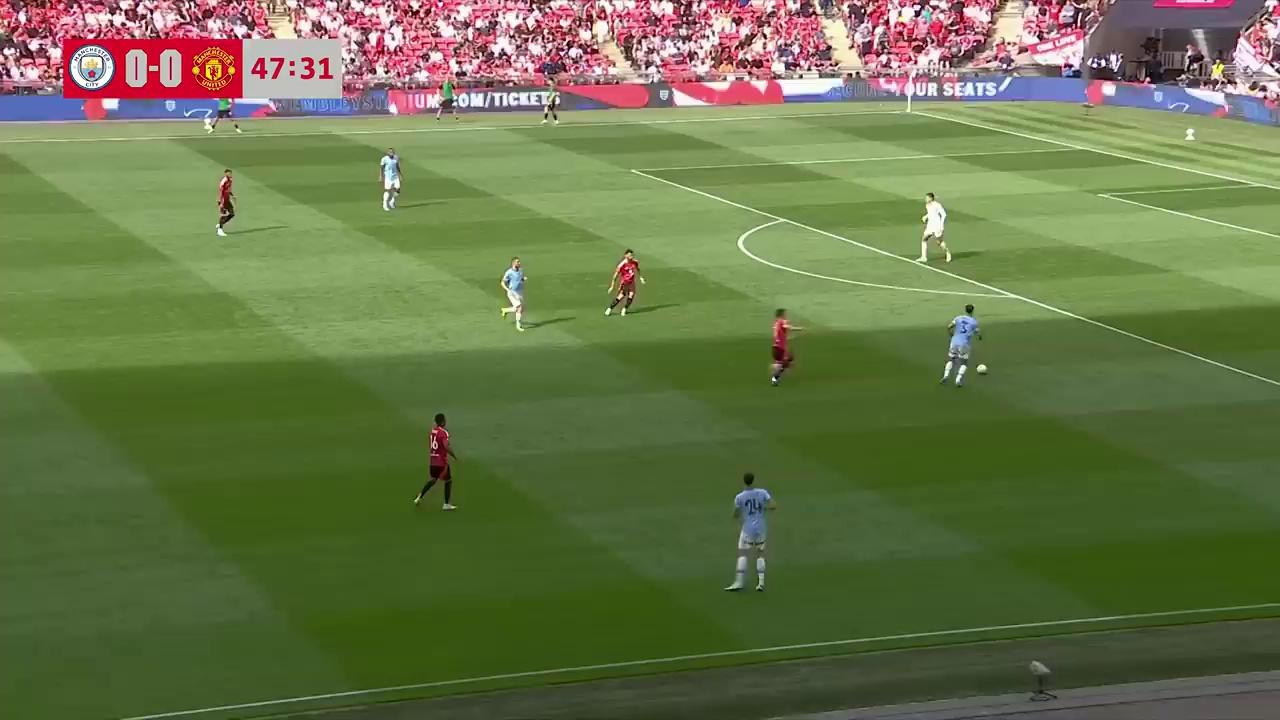ball: (975, 361, 988, 375)
player: (728, 471, 778, 592), (412, 412, 459, 512), (939, 303, 984, 386), (606, 248, 644, 316), (918, 192, 951, 263), (499, 257, 527, 331), (770, 309, 795, 385), (216, 169, 236, 236), (380, 149, 401, 211)
